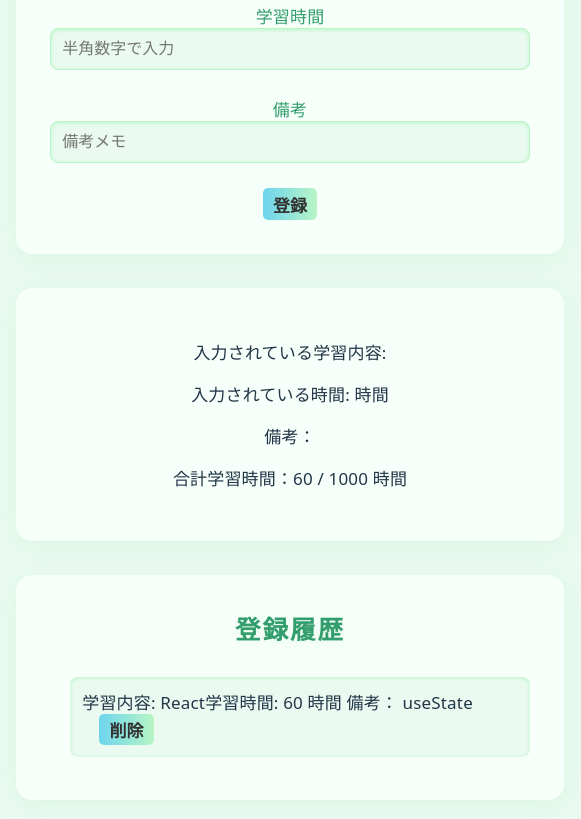
学習記録の追加・削除テスト › 削除でリストが1件減る
(page scrolled)
1件目の削除ボタンをクリック
Click the button "削除": (126, 730) x1=99 y1=714 x2=154 y2=745
(page scrolled)
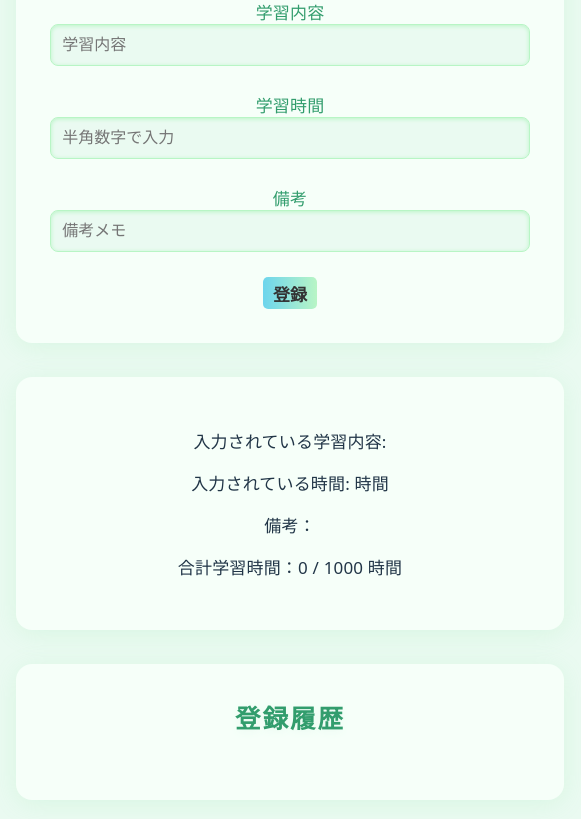
Check: no list items with test id "history-item" are shown
